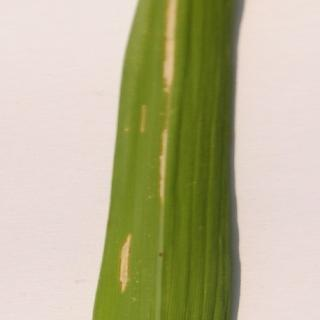Hawar-Daun: (152, 1, 180, 216), (108, 223, 144, 296)
